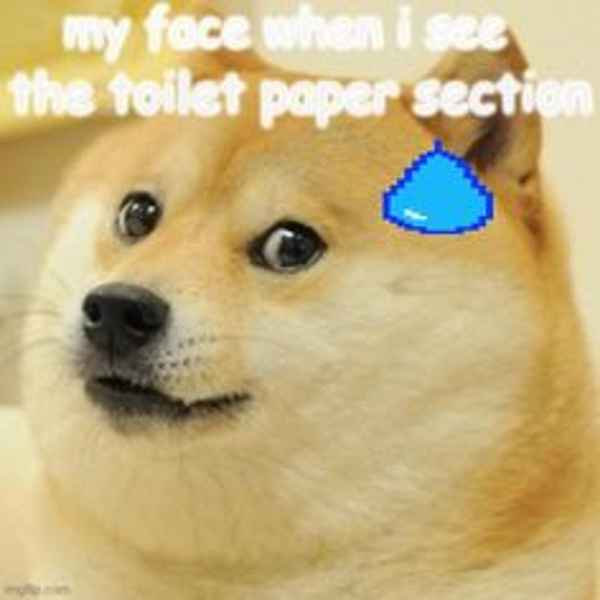doge: (38, 55, 542, 545)
